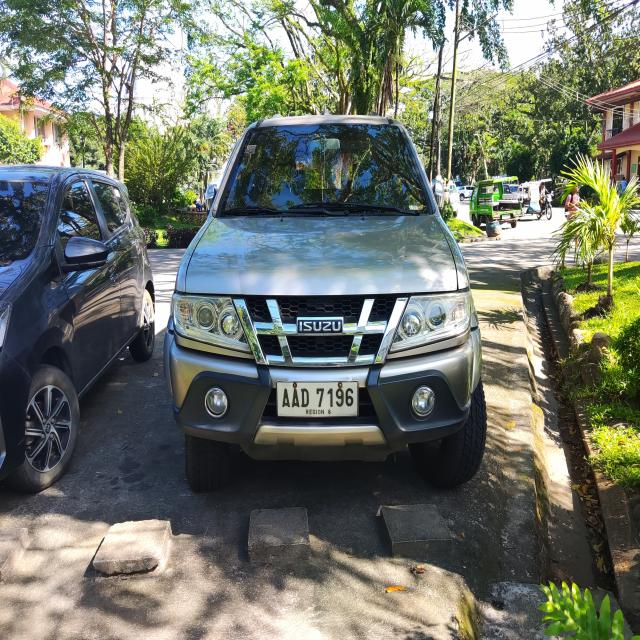plate: (274, 378, 360, 419)
